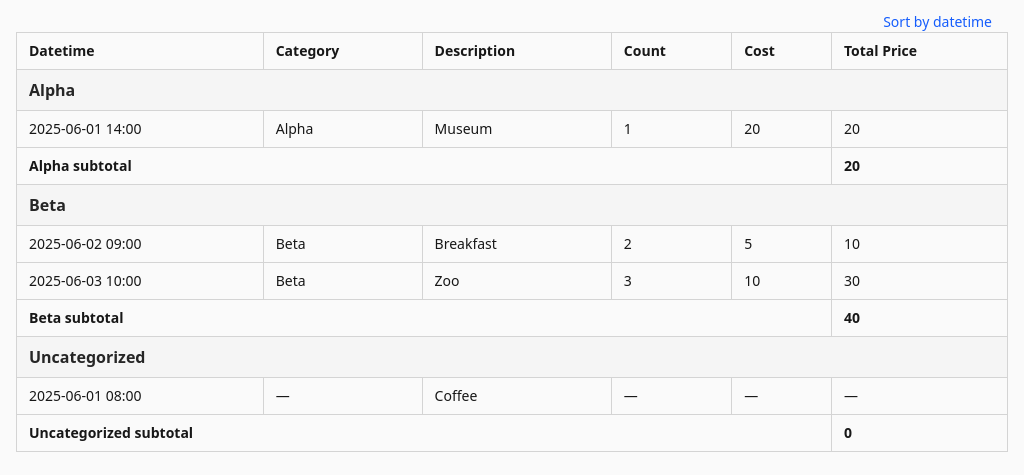
ActivityTable › activates cost input when cost cell is clicked
This screenshot has width=1024, height=475.
Click the 1st cell "20".
click(782, 129)  # box [732, 110, 831, 148]
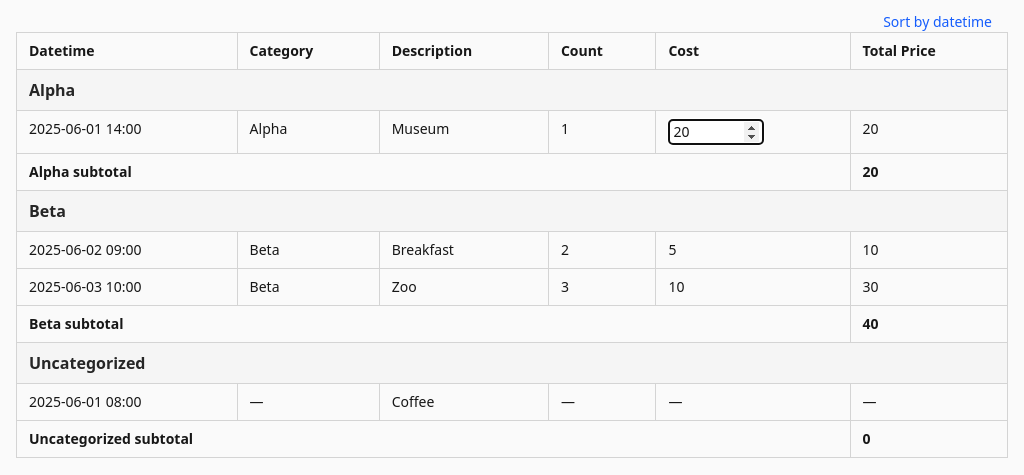
Result: the number field is shown at [668, 119, 764, 145]
